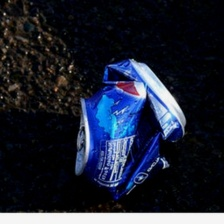can: (62, 54, 189, 203)
